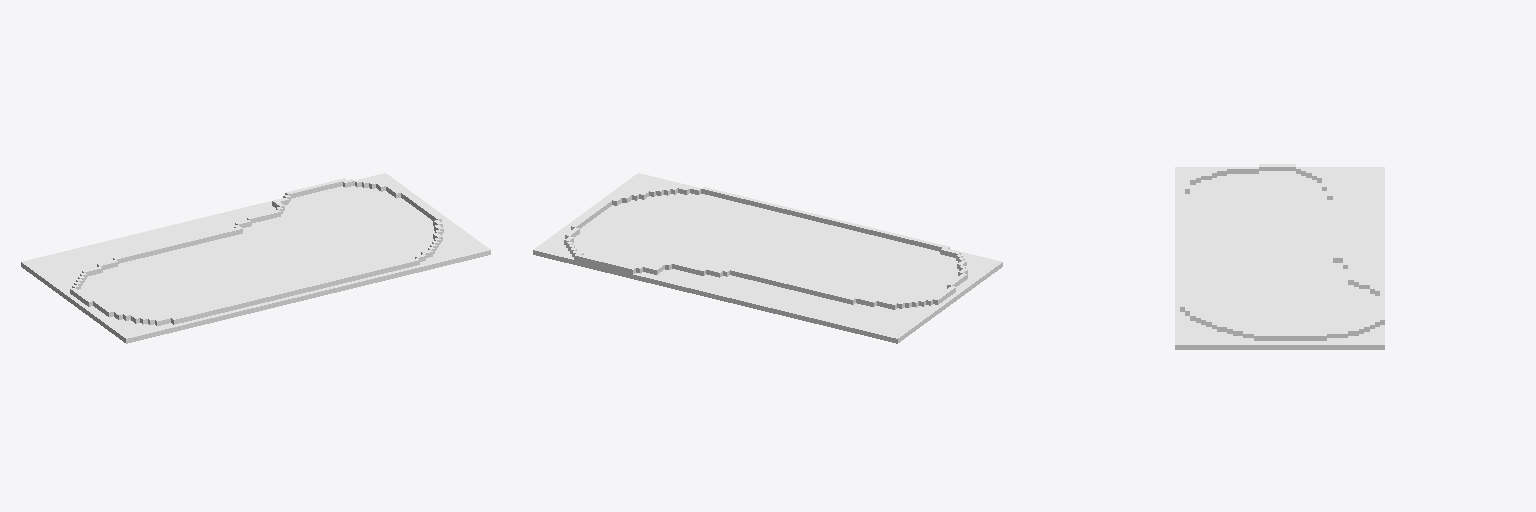
Rendered from speedTrack.obj.
3 renders of one model, left to right at view 1: azimuth 30°, elevation 25°; view 2: azimuth 150°, elevation 25°; view 3: azimuth 270°, elevation 25°, orthographic.
Size of the model in its own units: 80 by 2 by 40.